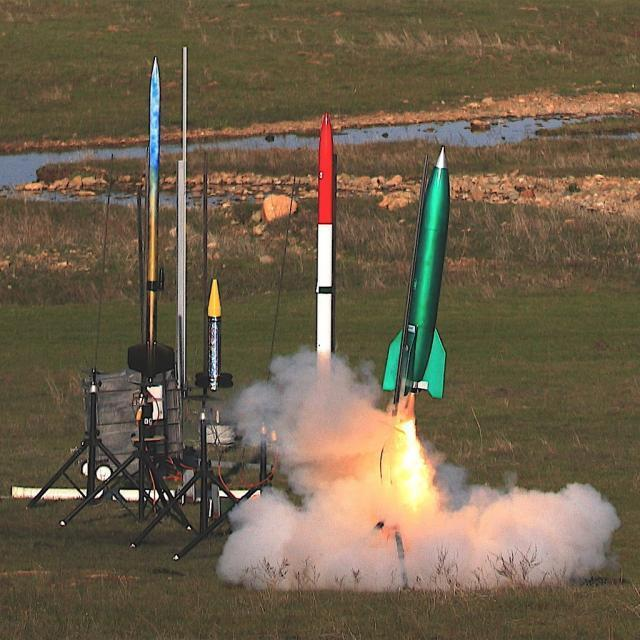Missile: (380, 145, 458, 416), (142, 57, 164, 356), (314, 114, 336, 370), (194, 276, 231, 394)
